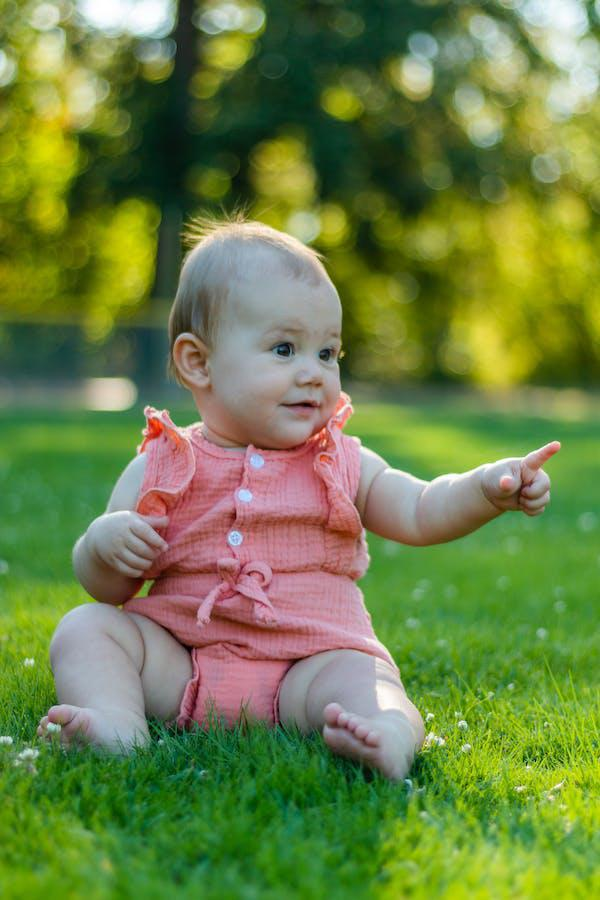child: (33, 208, 544, 812)
